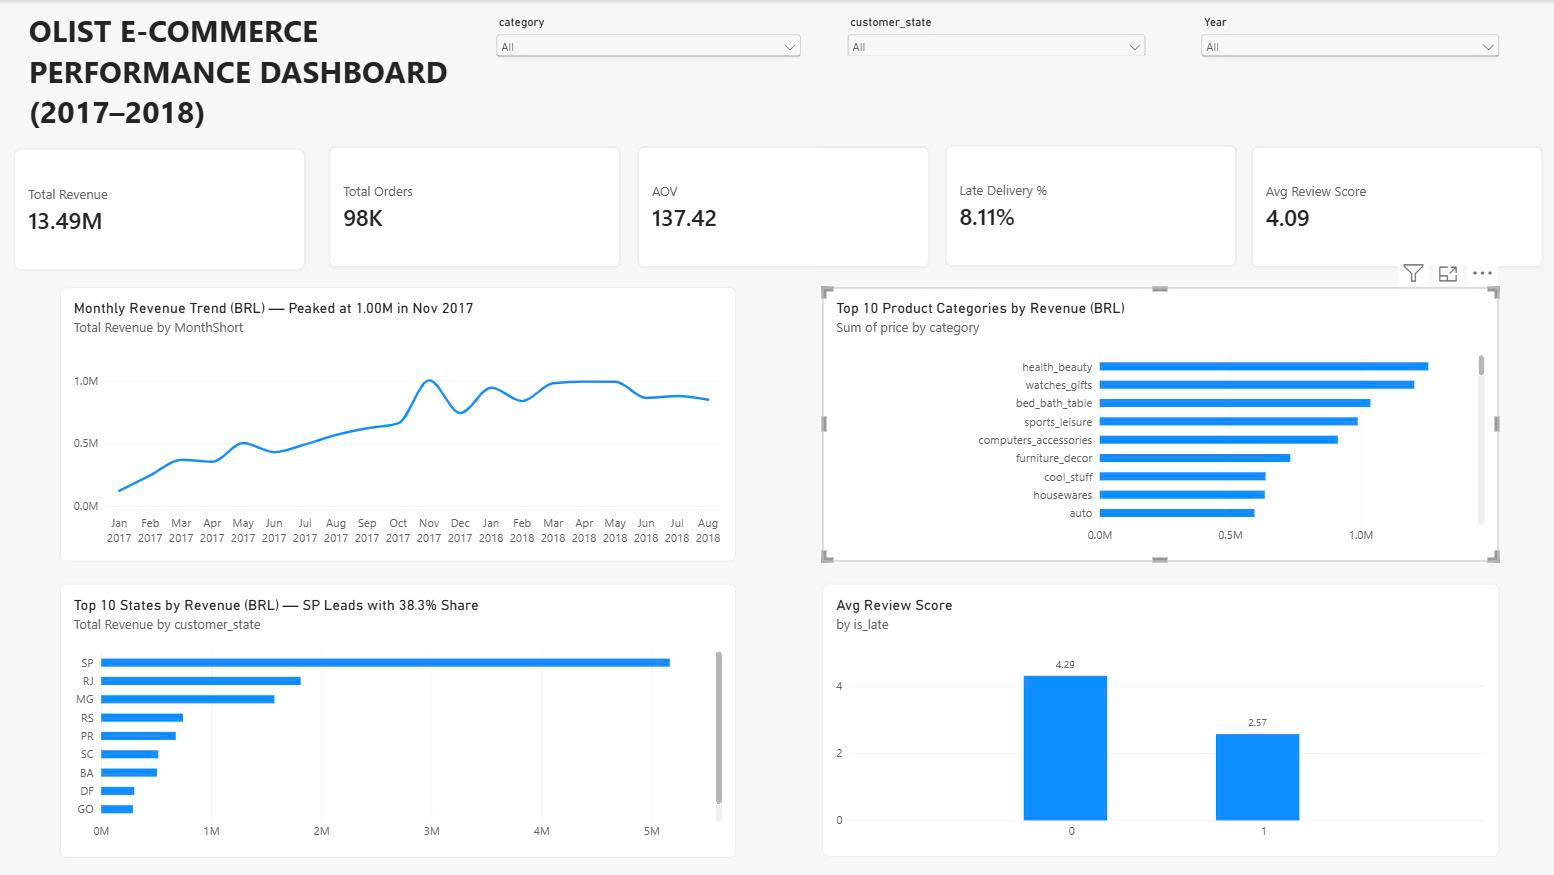

What the dashboard file says about the page in this screenshot:
{"tool":"powerbi","page":{"name":"Overview","canvas":[1920,1080],"ordinal":0},"visuals":[{"type":"textbox","box":[35,12.3,615.4,150.3],"z":0},{"type":"slicer","fields":{"Values":["DateTable.Year"]},"box":[1476.2,18.9,376.7,74.1],"z":1},{"type":"slicer","fields":{"Values":["public v_order_fact.customer_state"]},"box":[1039.9,18.9,376.7,49.4],"z":2},{"type":"slicer","fields":{"Values":["public v_item_fact.category"]},"box":[607.6,18.9,384.9,109.1],"z":3},{"type":"cardVisual","fields":{"Data":["public v_order_fact.Total Revenue"]},"box":[16.9,182.8,360.2,150.3],"z":4},{"type":"cardVisual","fields":{"Data":["public v_order_fact.Total Orders"]},"box":[405.9,180.7,360.2,150.3],"z":5},{"type":"cardVisual","fields":{"Data":["public v_order_fact.AOV"]},"box":[786.7,180.7,360.2,150.3],"z":6},{"type":"cardVisual","fields":{"Data":["public v_order_fact.Late Delivery %"]},"box":[1165.4,178.7,360.2,150.3],"z":7},{"type":"cardVisual","fields":{"Data":["public v_order_fact.Avg Review Score"]},"box":[1542.1,180.7,360.2,150.3],"z":8},{"type":"lineChart","title":"Monthly Revenue Trend (BRL) — Peaked at 1.00M in Nov 2017","fields":{"Category":["DateTable.MonthShort"],"Y":["public v_order_fact.Total Revenue"]},"box":[74.1,354,833.6,337.6],"z":9},{"type":"clusteredBarChart","title":"Top 10 Product Categories by Revenue (BRL)","fields":{"Category":["public v_item_fact.category"],"Y":["Sum(public v_item_fact.price)"]},"box":[1014.8,354,833.6,337.6],"z":10},{"type":"clusteredBarChart","title":"Top 10 States by Revenue (BRL) — SP Leads with 38.3% Share","fields":{"Category":["public v_order_fact.customer_state"],"Y":["public v_order_fact.Total Revenue"]},"box":[74.1,720.4,833.6,337.6],"z":11},{"type":"clusteredColumnChart","fields":{"Category":["public v_order_fact.is_late"],"Y":["public v_order_fact.Avg Review Score"]},"box":[1014.8,720.4,834,337],"z":12}]}

Visuals, with their boxes in screenshot pixels (x1, y1, x2, y2), scaled from the page's 1920x1080 canvas onto the 1554x875 screenshot:
textbox: l=28, t=10, r=526, b=132
slicer - DateTable.Year: l=1195, t=15, r=1500, b=75
slicer - public v_order_fact.customer_state: l=842, t=15, r=1147, b=55
slicer - public v_item_fact.category: l=492, t=15, r=803, b=104
cardVisual - public v_order_fact.Total Revenue: l=14, t=148, r=305, b=270
cardVisual - public v_order_fact.Total Orders: l=329, t=146, r=620, b=268
cardVisual - public v_order_fact.AOV: l=637, t=146, r=928, b=268
cardVisual - public v_order_fact.Late Delivery %: l=943, t=145, r=1235, b=267
cardVisual - public v_order_fact.Avg Review Score: l=1248, t=146, r=1540, b=268
"Monthly Revenue Trend (BRL) — Peaked at 1.00M in Nov 2017" lineChart: l=60, t=287, r=735, b=560
"Top 10 Product Categories by Revenue (BRL)" clusteredBarChart: l=821, t=287, r=1496, b=560
"Top 10 States by Revenue (BRL) — SP Leads with 38.3% Share" clusteredBarChart: l=60, t=584, r=735, b=857
clusteredColumnChart - public v_order_fact.is_late x public v_order_fact.Avg Review Score: l=821, t=584, r=1496, b=857
